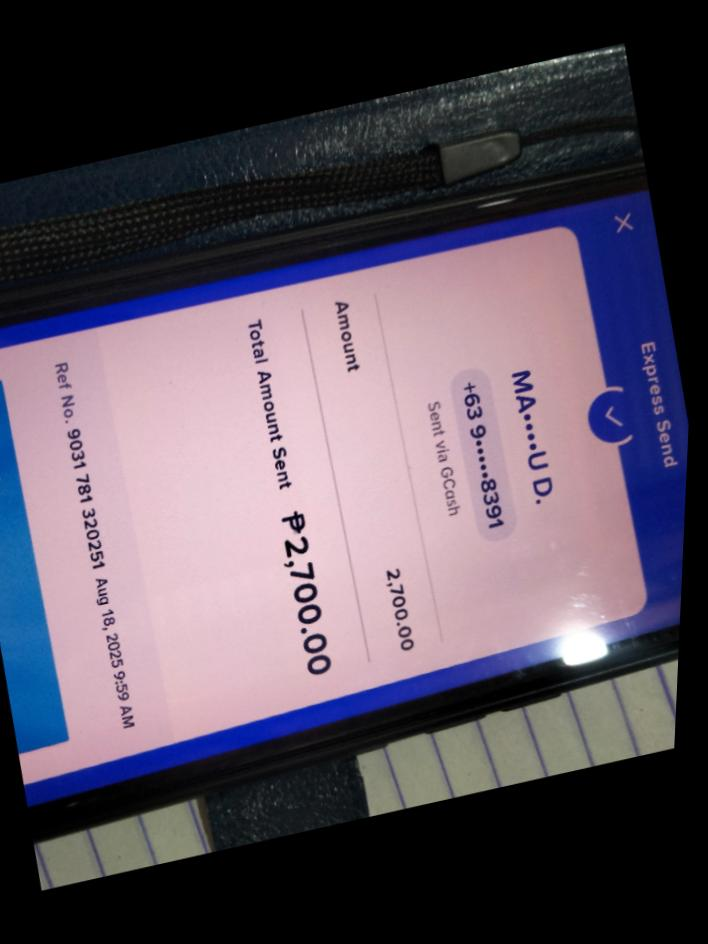Receipt: (0, 192, 689, 802)
